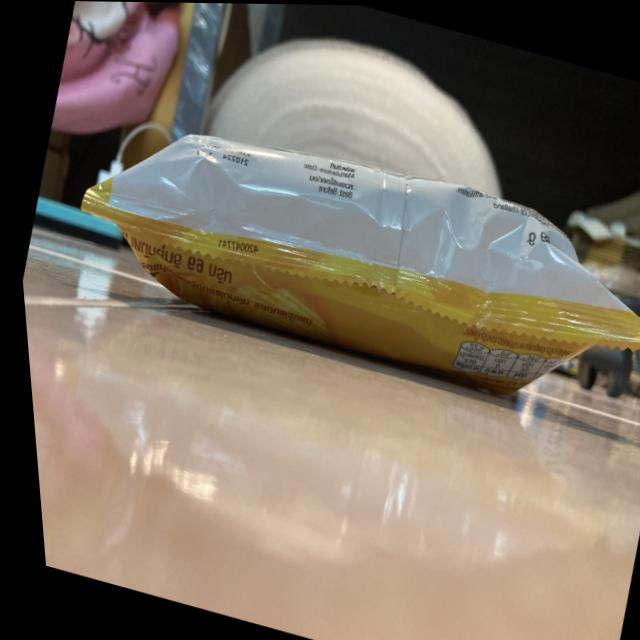LayYellow: (40, 69, 640, 436)
